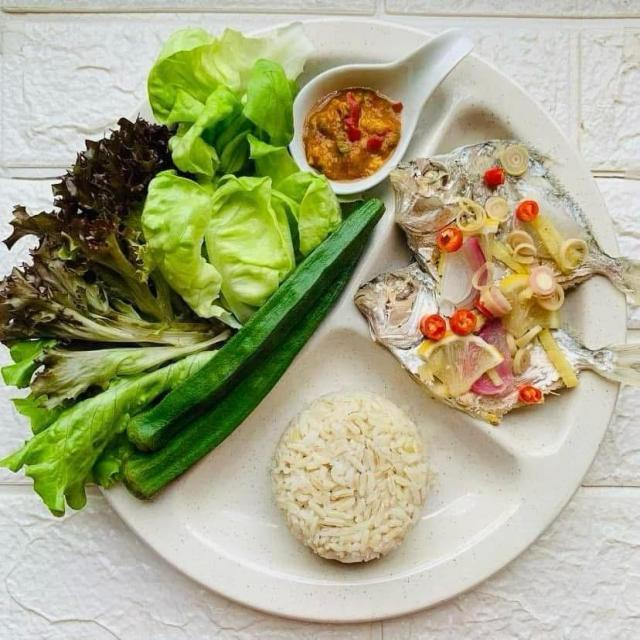Fish: (358, 143, 638, 416)
Plate: (104, 188, 615, 616)
Rice: (266, 385, 426, 566)
Vegetables: (0, 19, 386, 525)
